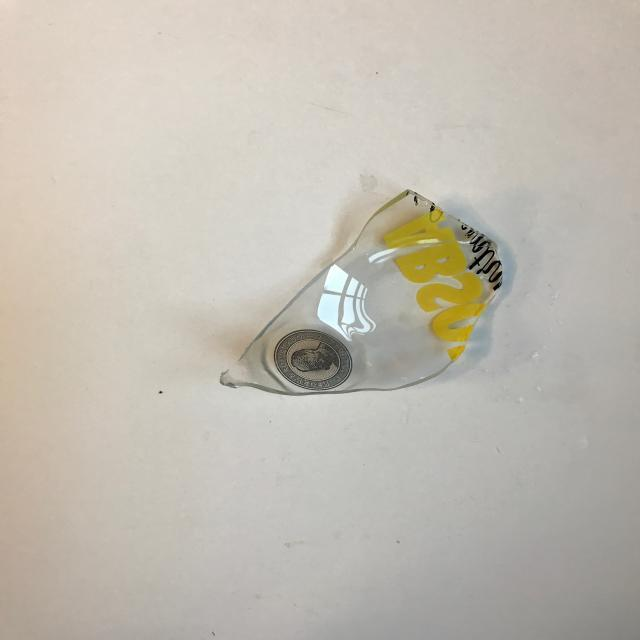glass: (218, 190, 504, 407)
